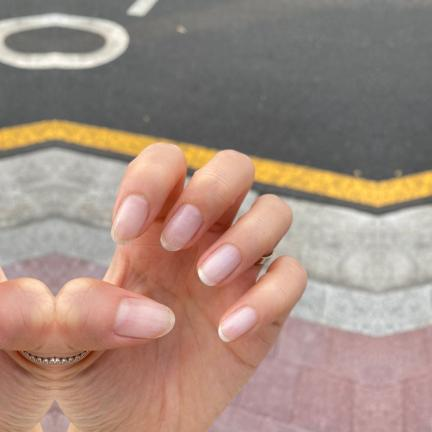Nail: (114, 299, 175, 339), (159, 203, 203, 251), (111, 195, 148, 244), (197, 244, 240, 286), (218, 306, 257, 342)
